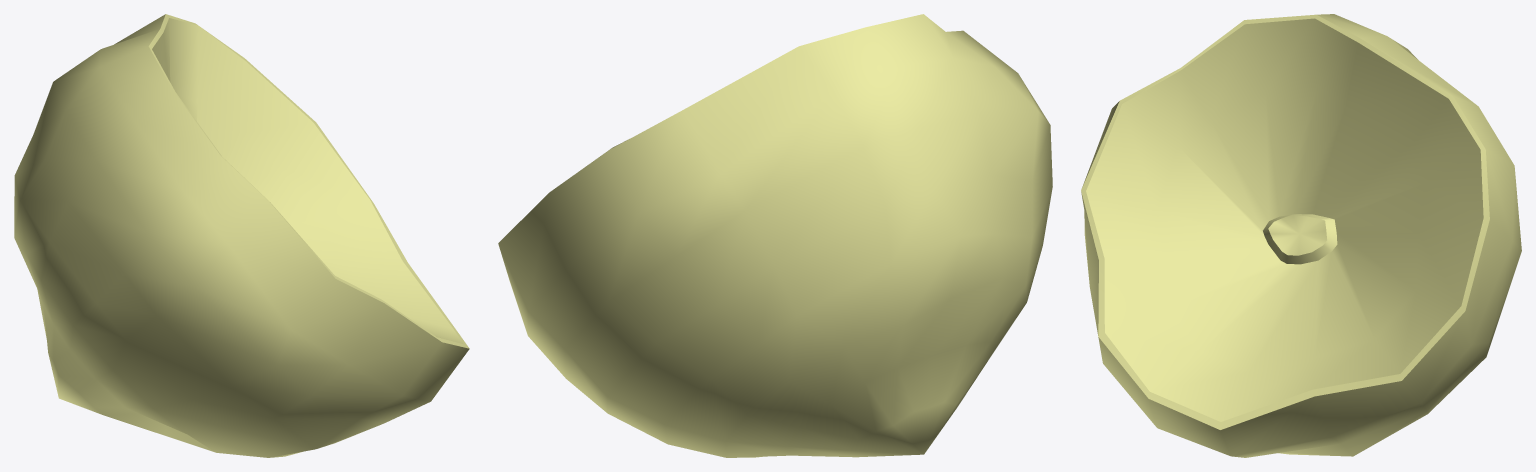
File: Limoncito.fbx
3 renders of one model, left to right at view 1: azimuth 30°, elevation 25°; view 2: azimuth 150°, elevation 25°; view 3: azimuth 270°, elevation 25°, orthographic. The views are drawn at different scales.
Visible parts, largest first — view 1: Limoncito; view 2: Limoncito; view 3: Limoncito.
Part boxes in pixels (x1=…): Limoncito: x1=14, y1=14, x2=469, y2=457; Limoncito: x1=498, y1=14, x2=1052, y2=457; Limoncito: x1=1081, y1=14, x2=1521, y2=457.
Size of the model in its own units: 0.0402 by 0.0406 by 0.0422.
